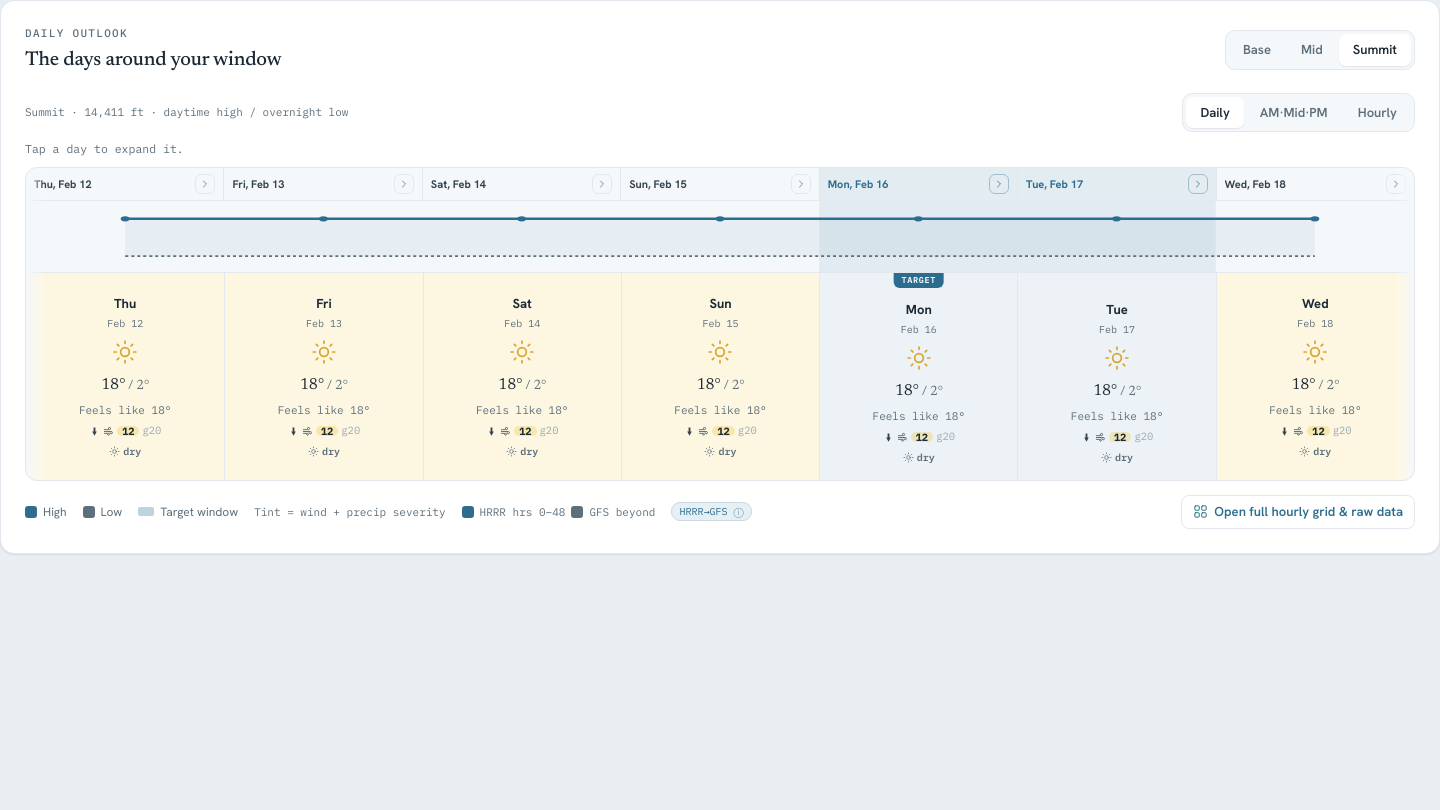
Test: DailyOutlook › expanding one day to period changes only that day (3 cells), neighbors stay 1
# expand the first day (Thu 2026-02-12) one step: day → period
Click the button named "Expand Thu, Feb 12 to AM·Mid·PM detail".
click(205, 184)  # box [195,174,215,194]
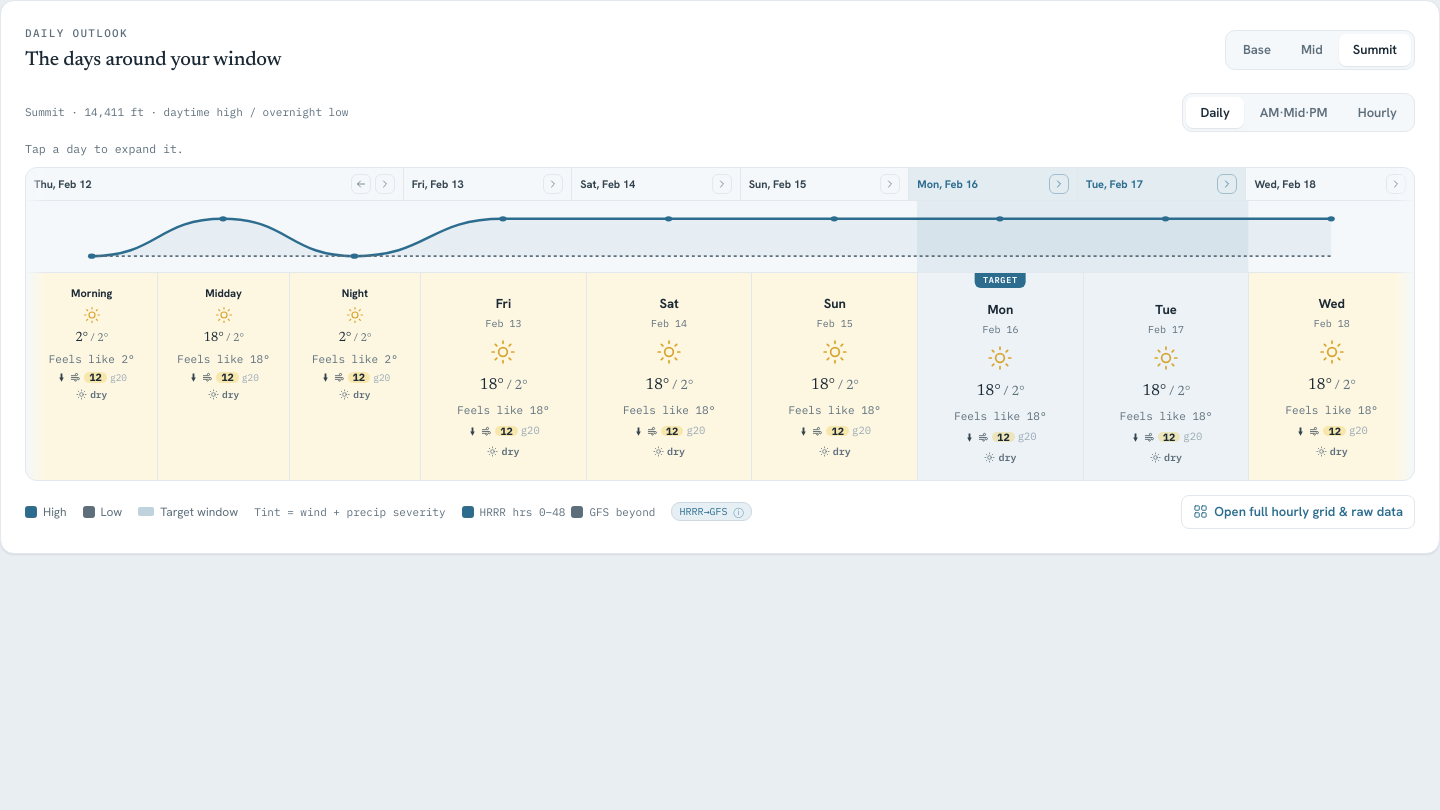
Expected: the number of elements with class "day-tile" is 9
